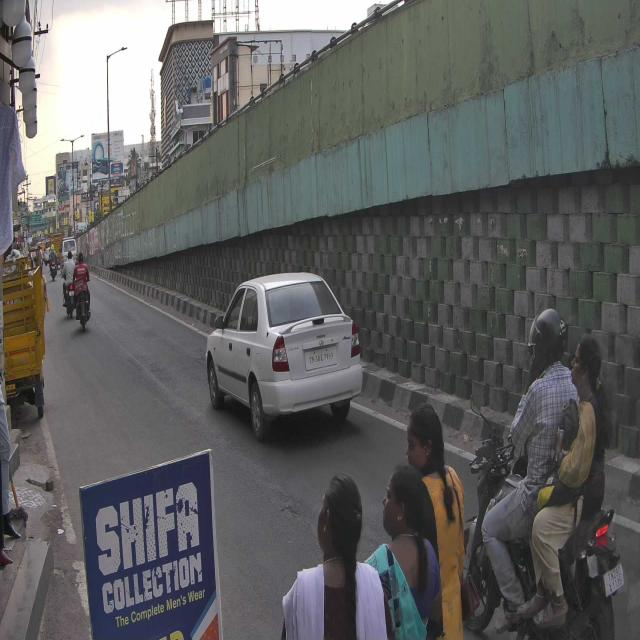double_rider: (462, 302, 624, 640)
